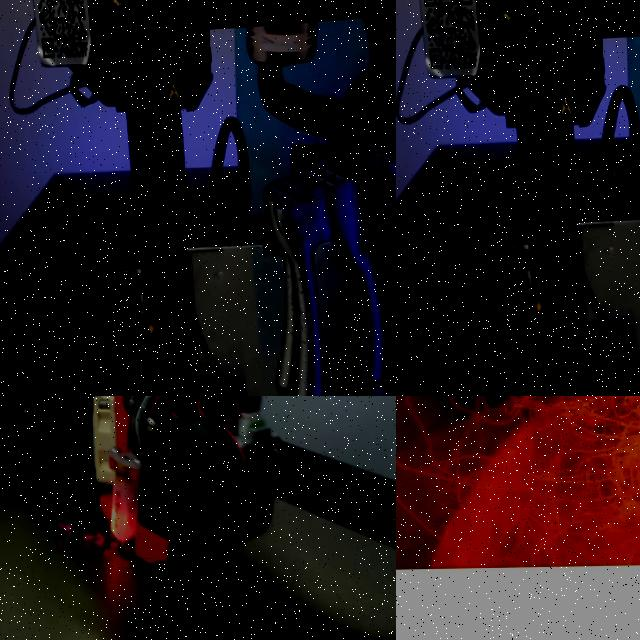spaghetti: (412, 396, 640, 584), (81, 532, 133, 568), (213, 573, 225, 591), (59, 523, 73, 534)
